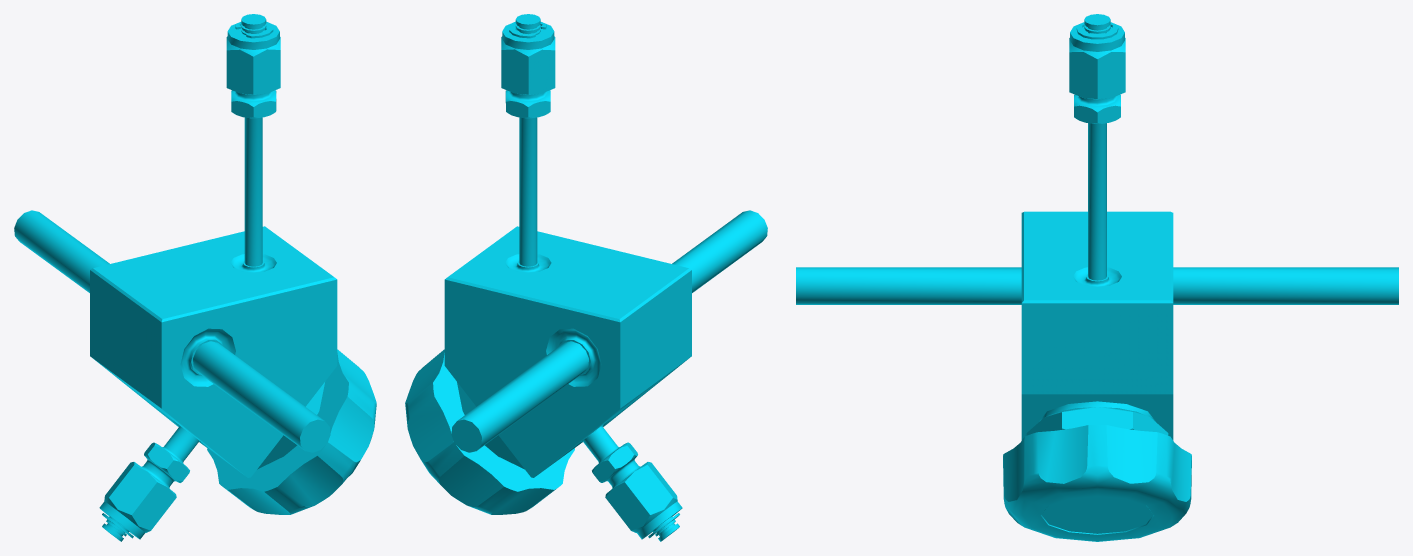
Rendered from mytest1.glb.
The picture shows the model from 3 angles, left to right: view 1: azimuth 30°, elevation 25°; view 2: azimuth 150°, elevation 25°; view 3: azimuth 270°, elevation 25°; orthographic projection. The views are drawn at different scales.
Parts seen in each view (by area): view 1: *A8; view 2: *A8; view 3: *A8.
Boxes of the visible parts, x1,y1,x2,y2 form: *A8: (14, 14, 376, 541); *A8: (405, 14, 767, 541); *A8: (796, 14, 1398, 541).
Bounding box in the file's own units: 106 × 192 × 203.
